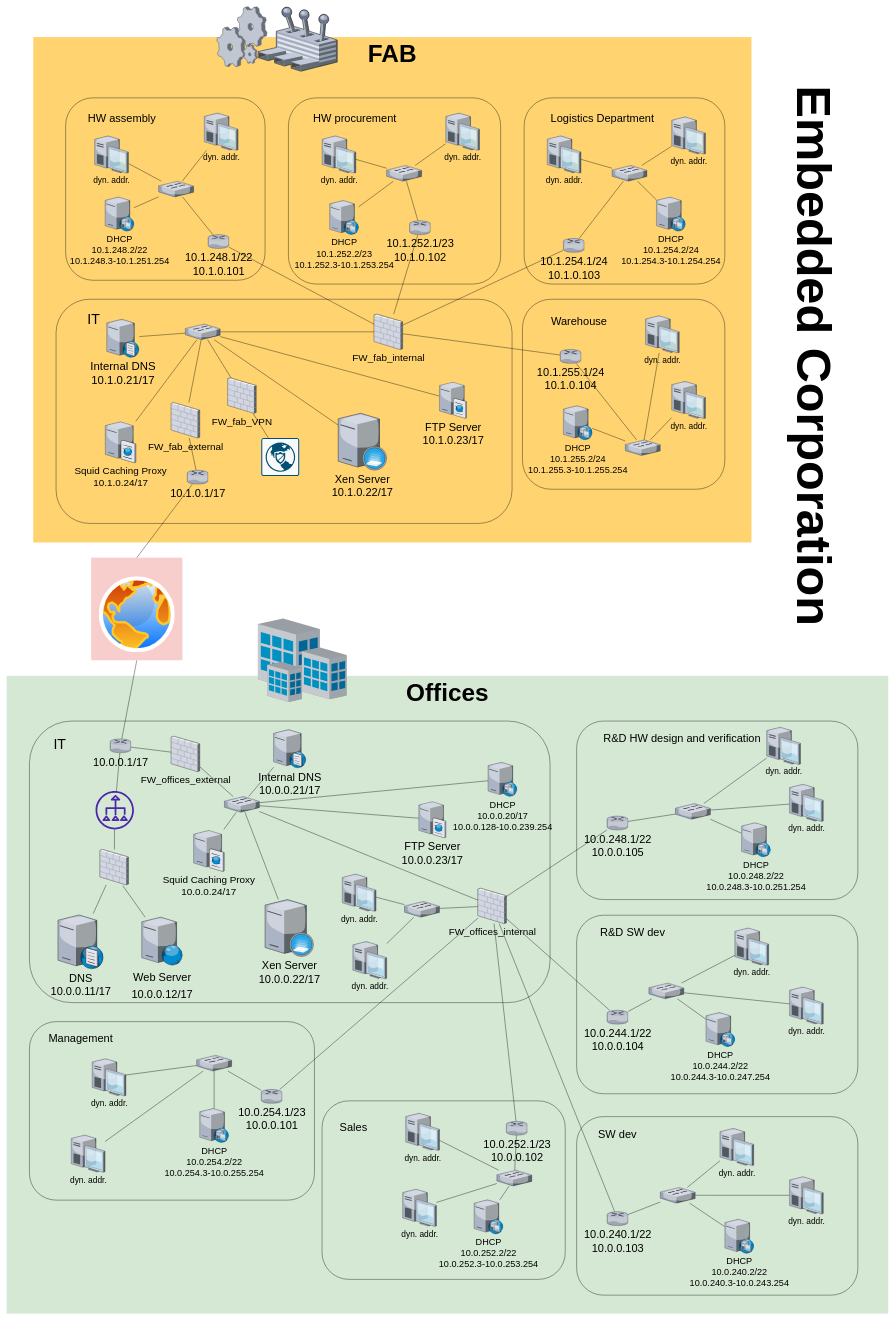
Image size: 895x1320. Some labels were removed from this diagram. The box of each missing label's shape, as (x1, y1, x2, y2) in pixels:
FW_offices_public: (100, 849, 128, 885)
Internet: (91, 557, 182, 660)
NAT: (95, 791, 134, 829)
VPN Server 10.1.0.69/17 VPNpool 10.1.64.0/18: (261, 438, 299, 476)
